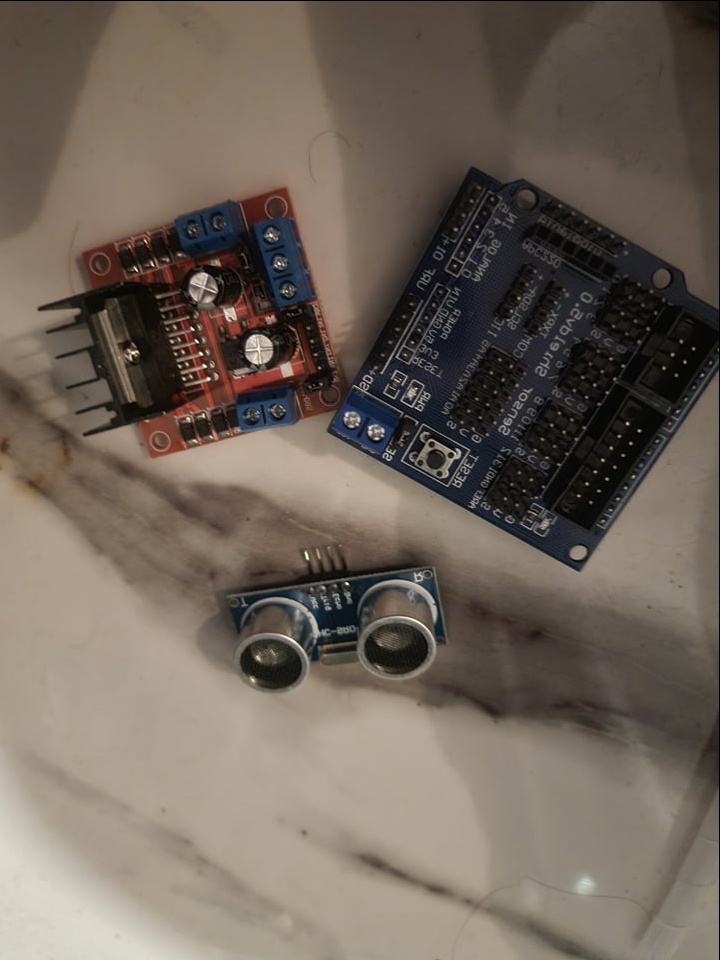5V EXPANSION: (326, 164, 718, 570)
MOTOR: (41, 185, 348, 459)
SENSOR: (222, 550, 449, 695)
